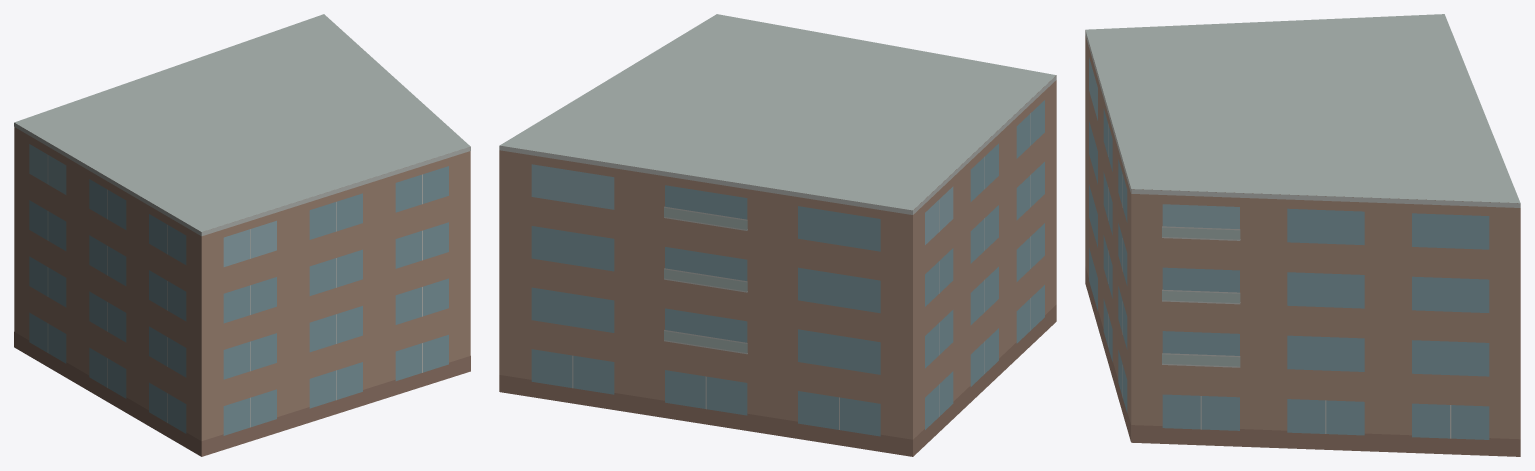
Rendered from survey-upis-32858177.glb.
3 renders of one model, left to right at view 1: azimuth 30°, elevation 25°; view 2: azimuth 150°, elevation 25°; view 3: azimuth 270°, elevation 25°, orthographic. The views are drawn at different scales.
Visible parts, largest first — view 1: survey-upis-32858177.tmp; view 2: survey-upis-32858177.tmp; view 3: survey-upis-32858177.tmp.
Boxes of the visible parts, x1,y1,x2,y2 form: survey-upis-32858177.tmp: (14, 14, 470, 456); survey-upis-32858177.tmp: (499, 14, 1056, 456); survey-upis-32858177.tmp: (1085, 14, 1520, 456).
Bounding box in the file's own units: 20.48 × 12.8 × 19.91.
